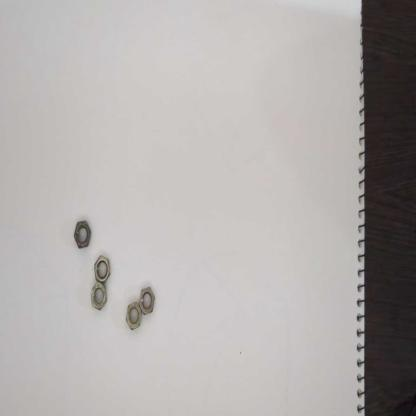NUTS: (72, 219, 95, 254), (88, 280, 109, 314), (123, 300, 144, 330), (138, 283, 156, 316), (93, 255, 112, 284)
